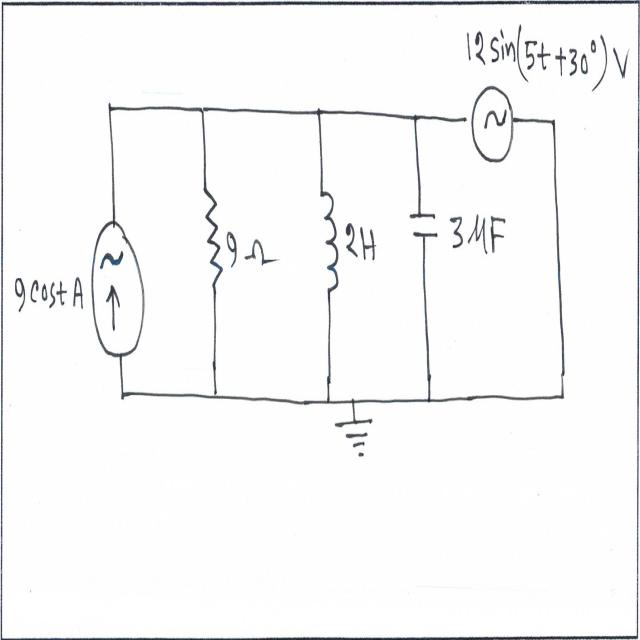ac_current: (465, 77, 516, 166)
capacitor: (406, 202, 442, 248)
current_source: (87, 208, 150, 365)
ground: (335, 412, 385, 472)
inductor: (314, 179, 344, 302)
resistor: (198, 170, 226, 318)
